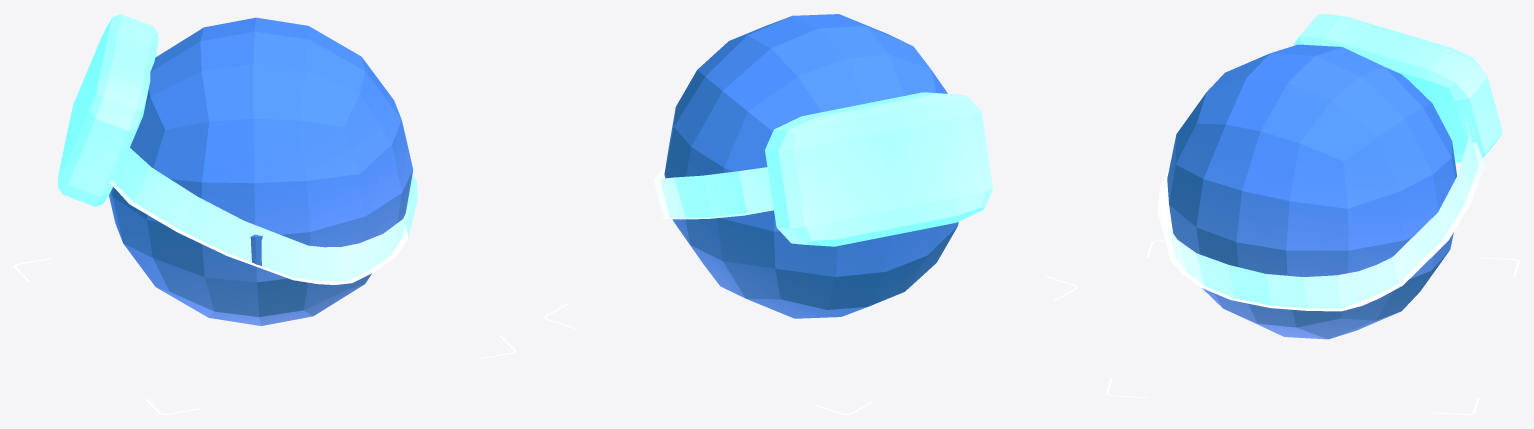
File: ari-head-hero.glb
3 views of the same model, side by side, from view 1: azimuth 30°, elevation 25°; view 2: azimuth 150°, elevation 25°; view 3: azimuth 270°, elevation 25° (orthographic). The views are drawn at different scales.
Parts seen in each view (by area): view 1: Buffer Object, Cube_001, Cube; view 2: Buffer Object, Cube, Cube_001; view 3: Buffer Object, Cube_001, Cube, Placeholder.
Boxes of the visible parts, box(x1,y1,x2,y2) form: Buffer Object: box(109, 17, 413, 325); Cube_001: box(109, 55, 417, 284); Cube: box(57, 14, 158, 206); Buffer Object: box(664, 14, 958, 318); Cube: box(765, 92, 993, 246); Cube_001: box(654, 165, 773, 219); Buffer Object: box(1167, 44, 1456, 339); Cube_001: box(1158, 114, 1484, 311); Cube: box(1293, 14, 1502, 162); Placeholder: box(1106, 240, 1519, 414).
Bounding box in the file's own units: 1.12 × 0.7997 × 1.11.
4 materials, 3 textured.
